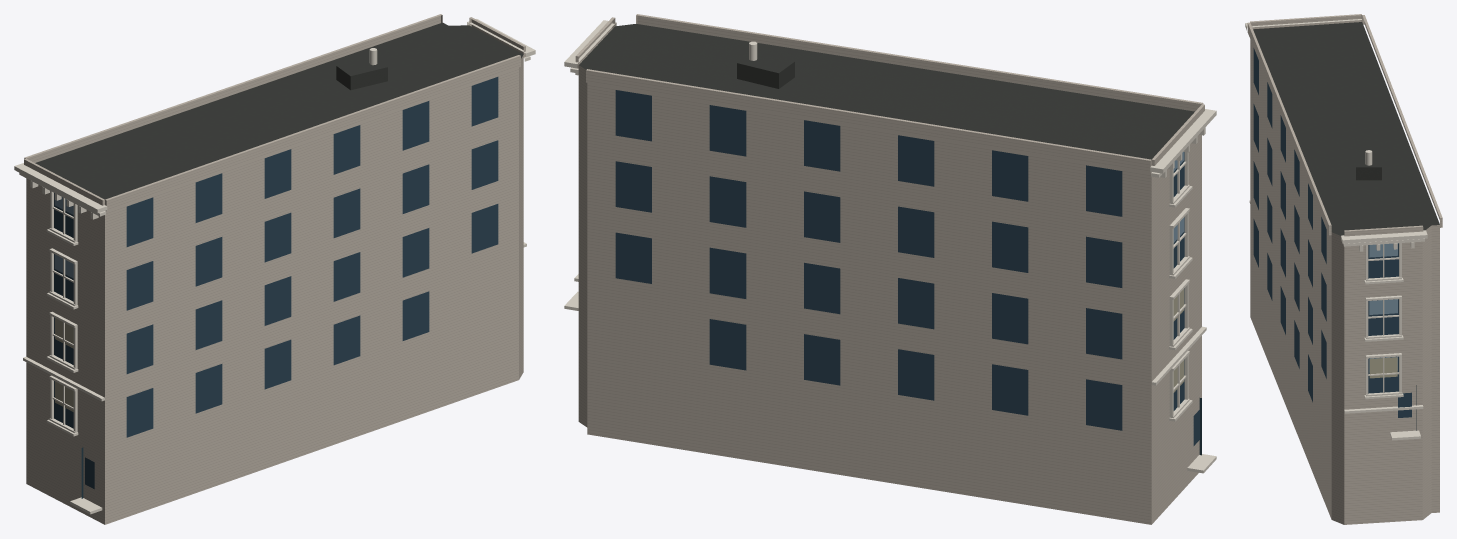
The picture shows the model from 3 angles, left to right: view 1: azimuth 30°, elevation 25°; view 2: azimuth 150°, elevation 25°; view 3: azimuth 270°, elevation 25°; orthographic projection. The views are drawn at different scales.
Parts seen in each view (by area): view 1: Footprint 0 / surface 2, Inset glazing, Footprint 0 / surface 1, Facade bay volumes, Cornices and window frames, Interior blind variation; view 2: Footprint 0 / surface 2, Inset glazing, Footprint 0 / surface 1, Facade bay volumes, Cornices and window frames; view 3: Footprint 0 / surface 2, Footprint 0 / surface 1, Inset glazing, Cornices and window frames, Facade bay volumes, Sky reflection panels, Interior blind variation, Inferred rooftop service enclosure / surface 1, Inferred rooftop service enclosure / surface 3.
Part boxes in pixels (x1,y1,x2,y2): Footprint 0 / surface 2: (26, 55, 523, 524); Inset glazing: (54, 77, 498, 489); Footprint 0 / surface 1: (35, 22, 523, 199); Facade bay volumes: (24, 14, 525, 211); Cornices and window frames: (14, 19, 535, 514); Interior blind variation: (55, 318, 73, 411); Footprint 0 / surface 2: (578, 65, 1201, 524); Inset glazing: (615, 90, 1199, 445); Footprint 0 / surface 1: (579, 24, 1194, 159); Facade bay volumes: (575, 14, 1204, 172); Cornices and window frames: (564, 20, 1216, 473); Footprint 0 / surface 2: (1250, 39, 1439, 524); Footprint 0 / surface 1: (1253, 22, 1439, 235); Inset glazing: (1253, 48, 1411, 417); Cornices and window frames: (1245, 19, 1427, 440); Facade bay volumes: (1247, 14, 1442, 236); Sky reflection panels: (1369, 243, 1397, 372); Interior blind variation: (1369, 357, 1397, 378); Inferred rooftop service enclosure / surface 1: (1356, 167, 1381, 180); Inferred rooftop service enclosure / surface 3: (1356, 151, 1381, 167).
Size of the model in its own units: 24.59 by 15.95 by 9.11.
